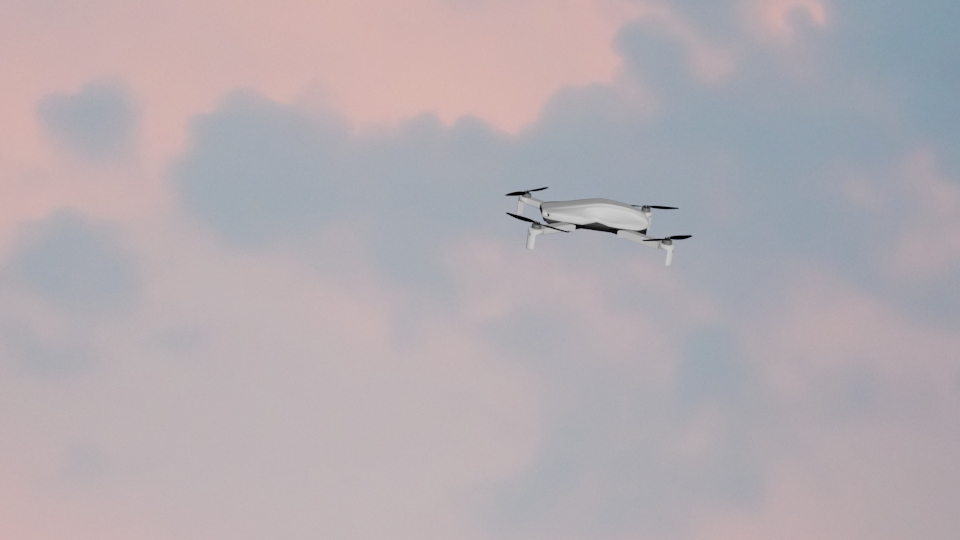drone: (505, 185, 691, 266)
